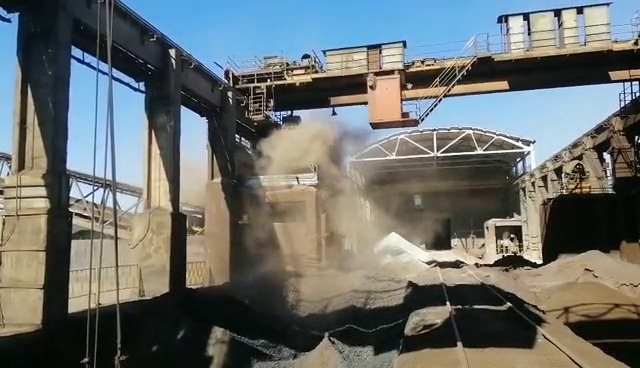dust: (216, 126, 448, 292)
